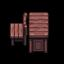Obstacle: (6, 10, 54, 56)
